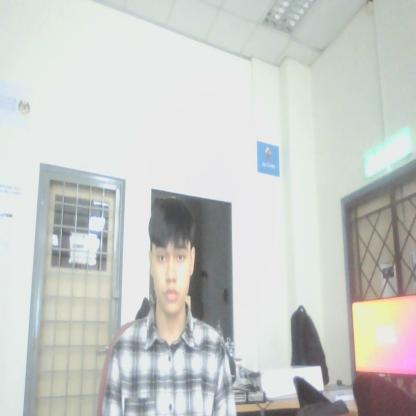Open-Eyes: (152, 240, 190, 268)
